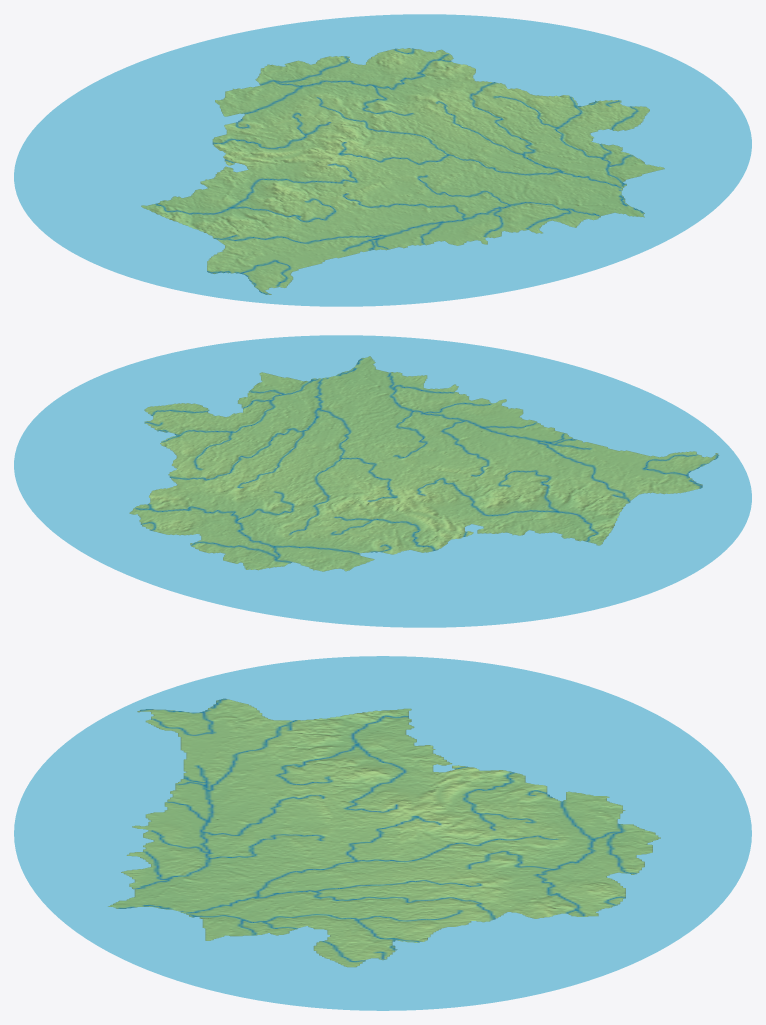
Rendered from BLR-terrain.glb.
3 renders of one model, top to bottom at view 1: azimuth 30°, elevation 25°; view 2: azimuth 150°, elevation 25°; view 3: azimuth 270°, elevation 25°, orthographic. The views are drawn at different scales.
Visible parts, largest first — view 1: Relevo com hidrografia; view 2: Relevo com hidrografia; view 3: Relevo com hidrografia.
Boxes of the visible parts, x1=… form: Relevo com hidrografia: x1=14, y1=14, x2=751, y2=306; Relevo com hidrografia: x1=14, y1=335, x2=751, y2=627; Relevo com hidrografia: x1=14, y1=656, x2=751, y2=1010.
Size of the model in its own units: 2.12 by 0.00819 by 1.87.
Materials: 2 (1 with a texture image).
